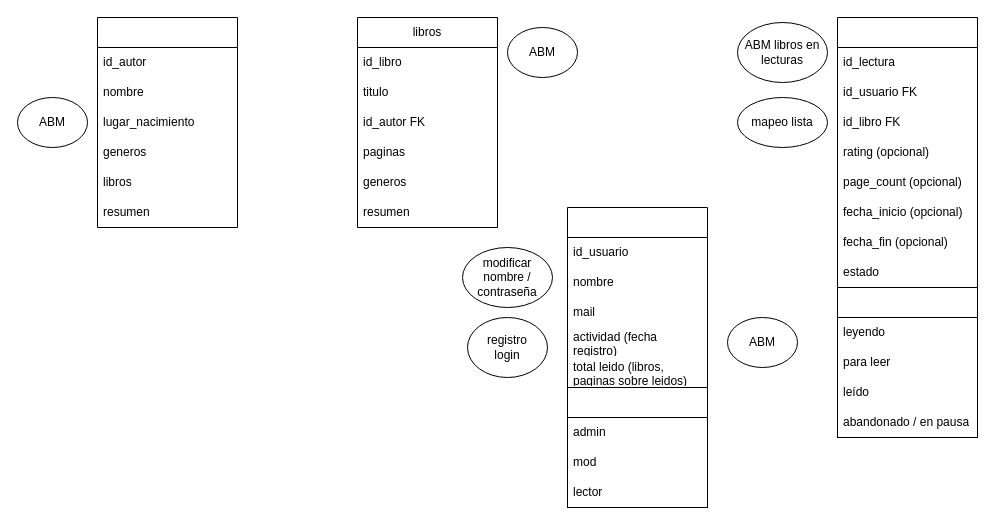
Image size: 995x525. Some labels were removed from this diagram. Here are the shapes that lost their labels. From the top down, the box of each, then its label:
(96, 16, 238, 228): autores
(836, 16, 978, 438): lecturas (array?)
(566, 206, 708, 508): usuarios
(836, 286, 978, 438): estados
(566, 386, 708, 508): roles
